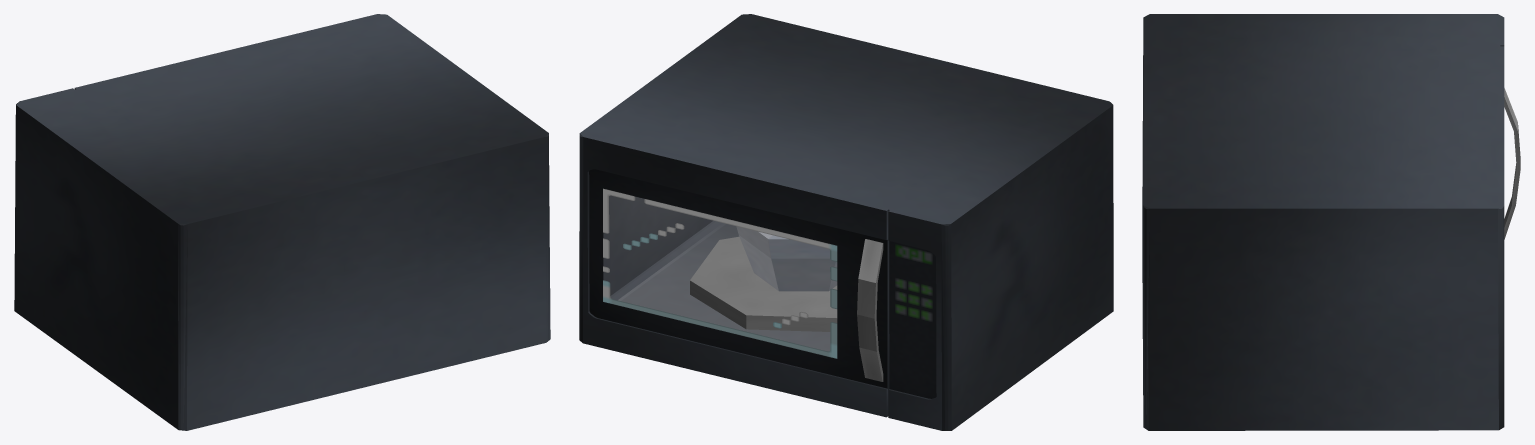
Rendered from microwave.obj.
3 views of the same model, side by side, from view 1: azimuth 30°, elevation 25°; view 2: azimuth 150°, elevation 25°; view 3: azimuth 270°, elevation 25° (orthographic). The views are drawn at different scales.
Parts seen in each view (by area): view 1: mainbody_Cube.001; view 2: mainbody_Cube.001, plate_Cylinder, window_Cube.002; view 3: mainbody_Cube.001.
Part boxes in pixels (x1,y1,x2,y2): mainbody_Cube.001: (14,14,550,430); mainbody_Cube.001: (579,14,1113,430); plate_Cylinder: (690,226,837,331); window_Cube.002: (603,188,837,358); mainbody_Cube.001: (1142,14,1520,430).
Size of the model in its own units: 0.7506 by 0.3962 by 0.613.
